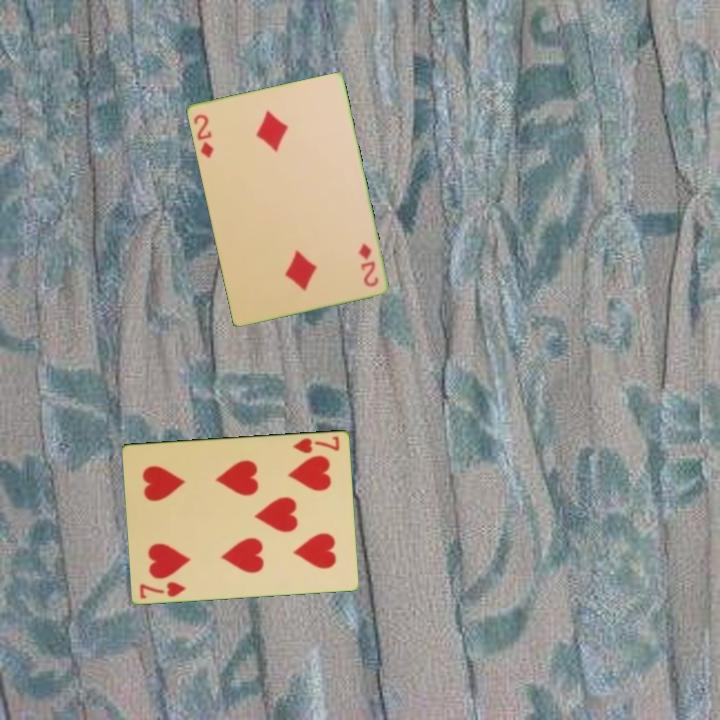2d: (354, 239, 381, 289), (190, 110, 216, 160)
7h: (289, 432, 343, 456), (136, 578, 189, 601)
